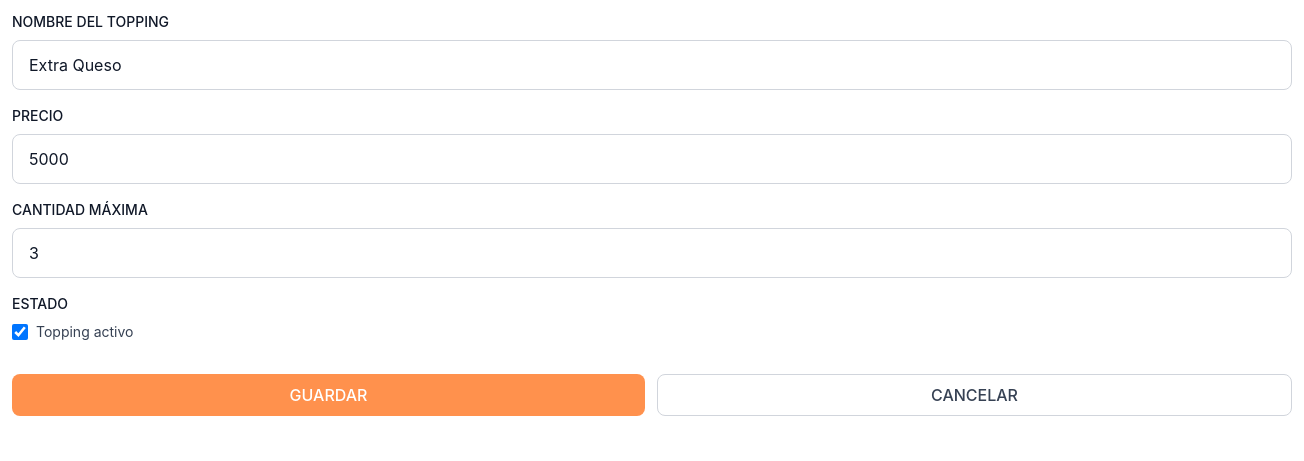
it: EditToppingForm › Form validation › should show error when name is empty
Clear the field showing "Extra Queso" at point(652, 65), box [12, 40, 1292, 90]
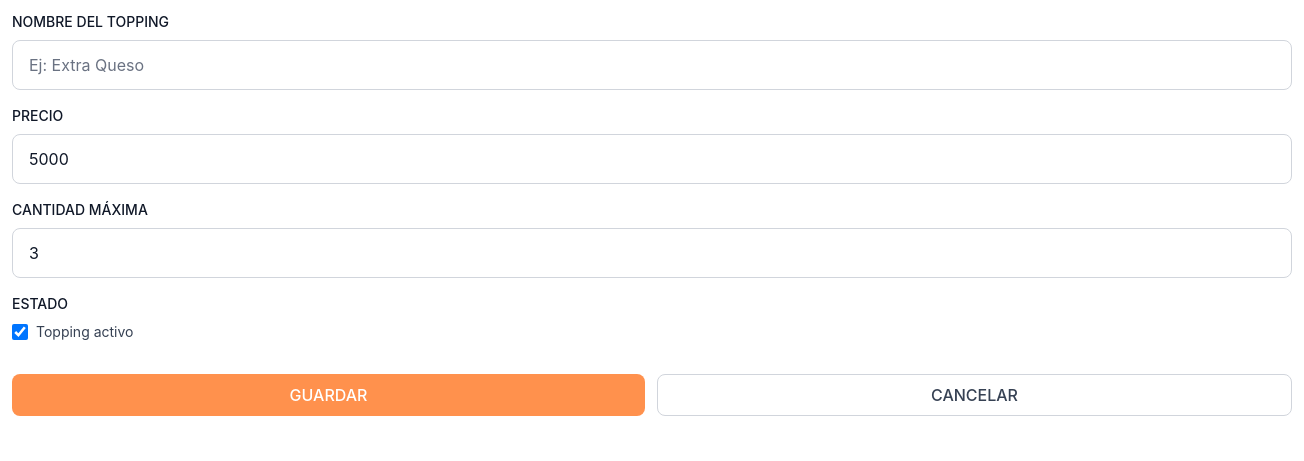
Click the button "GUARDAR".
click(328, 395)  # box [12, 374, 645, 416]
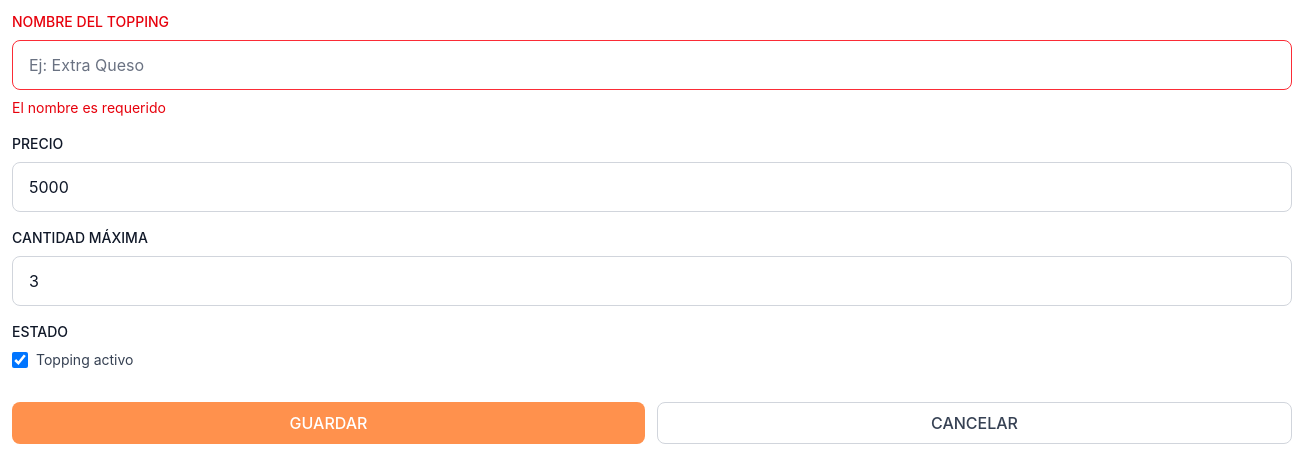
Expected: the text "El nombre es requerido" is shown, [12, 99, 166, 116]
